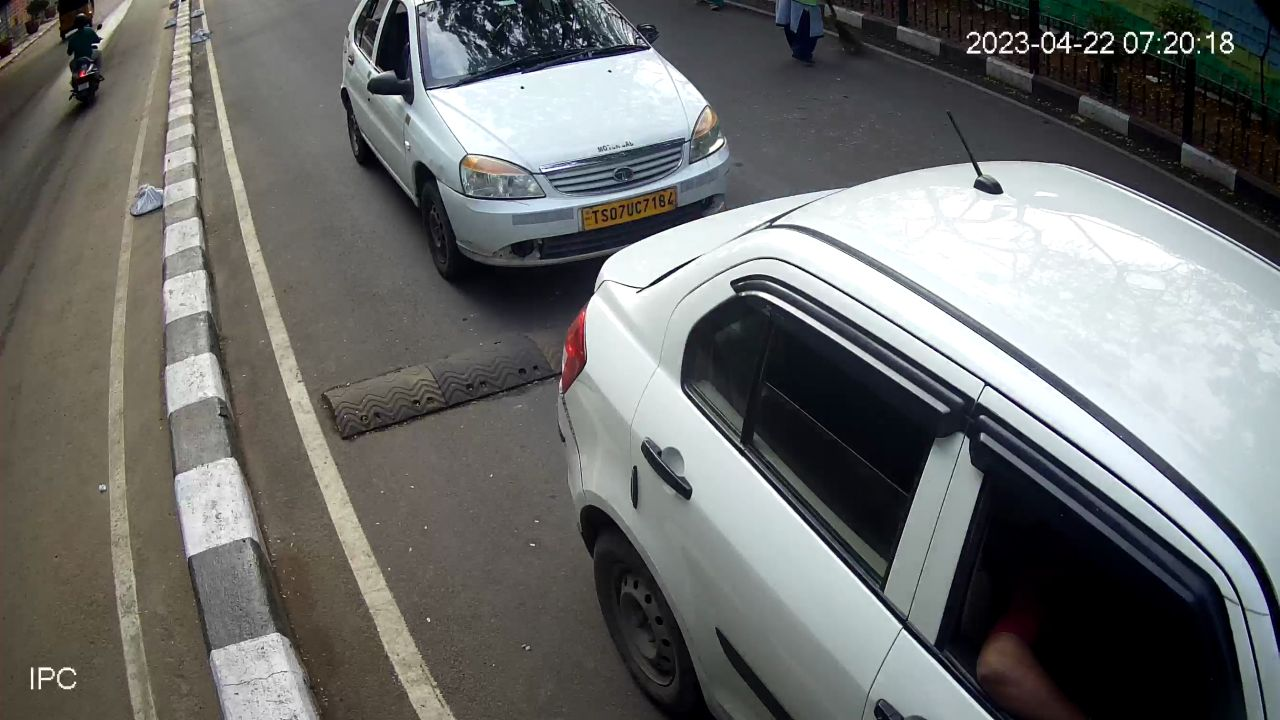license_plate: (576, 182, 682, 239)
